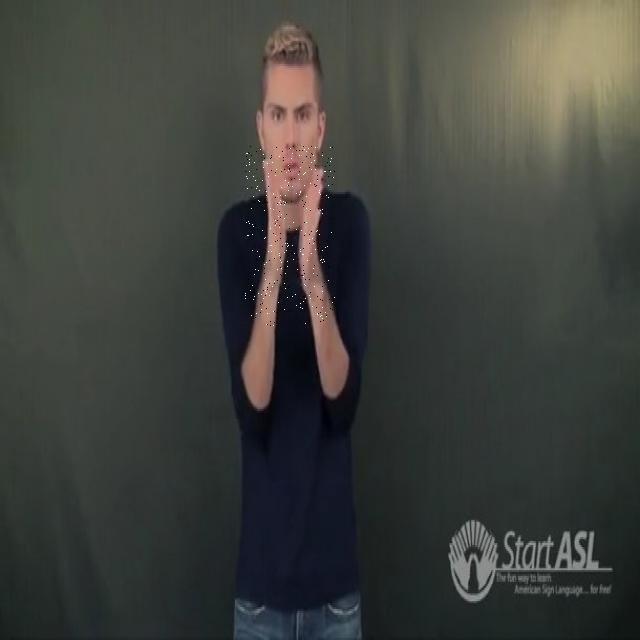small: (245, 146, 335, 326)
